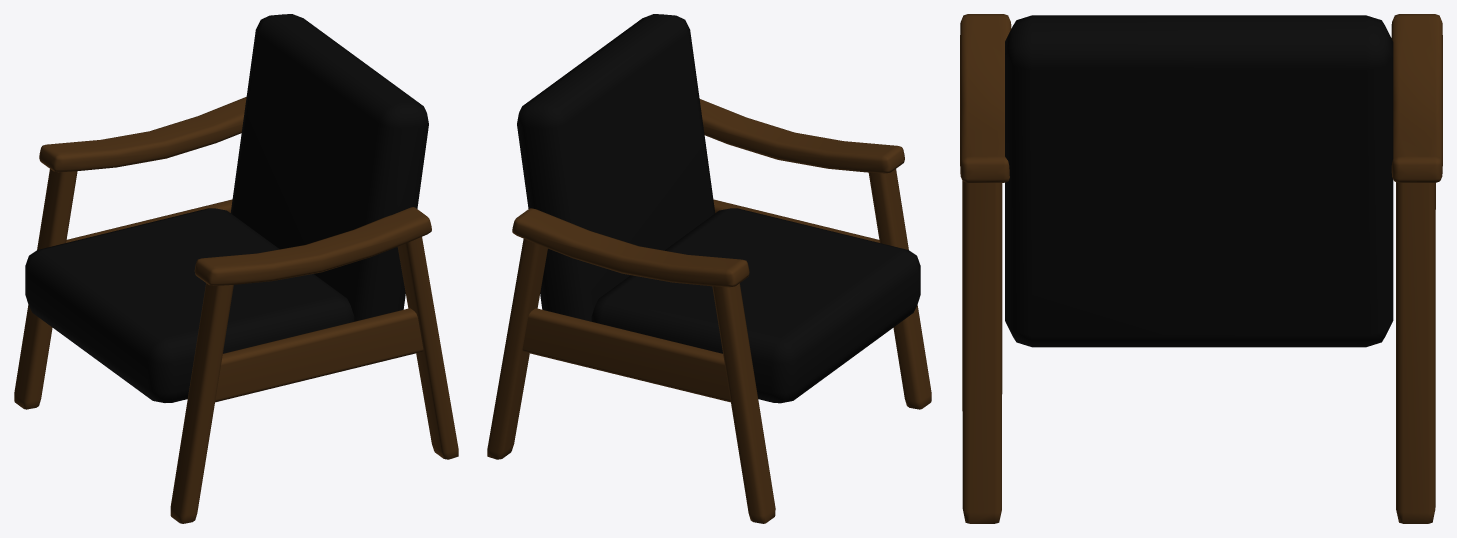
The model's file is armchair_08_leather_black.fbx.
3 views of the same model, side by side, from view 1: azimuth 30°, elevation 25°; view 2: azimuth 150°, elevation 25°; view 3: azimuth 270°, elevation 25° (orthographic). The views are drawn at different scales.
Visible parts, largest first — view 1: armchair_08_leather_black; view 2: armchair_08_leather_black; view 3: armchair_08_leather_black.
Part boxes in pixels (x1,y1,x2,y2): armchair_08_leather_black: (14,14,458,523); armchair_08_leather_black: (487,14,931,523); armchair_08_leather_black: (960,14,1442,523).
Bounding box in the file's own units: 94.97 × 109 × 99.4.
1 material, 1 textured.
